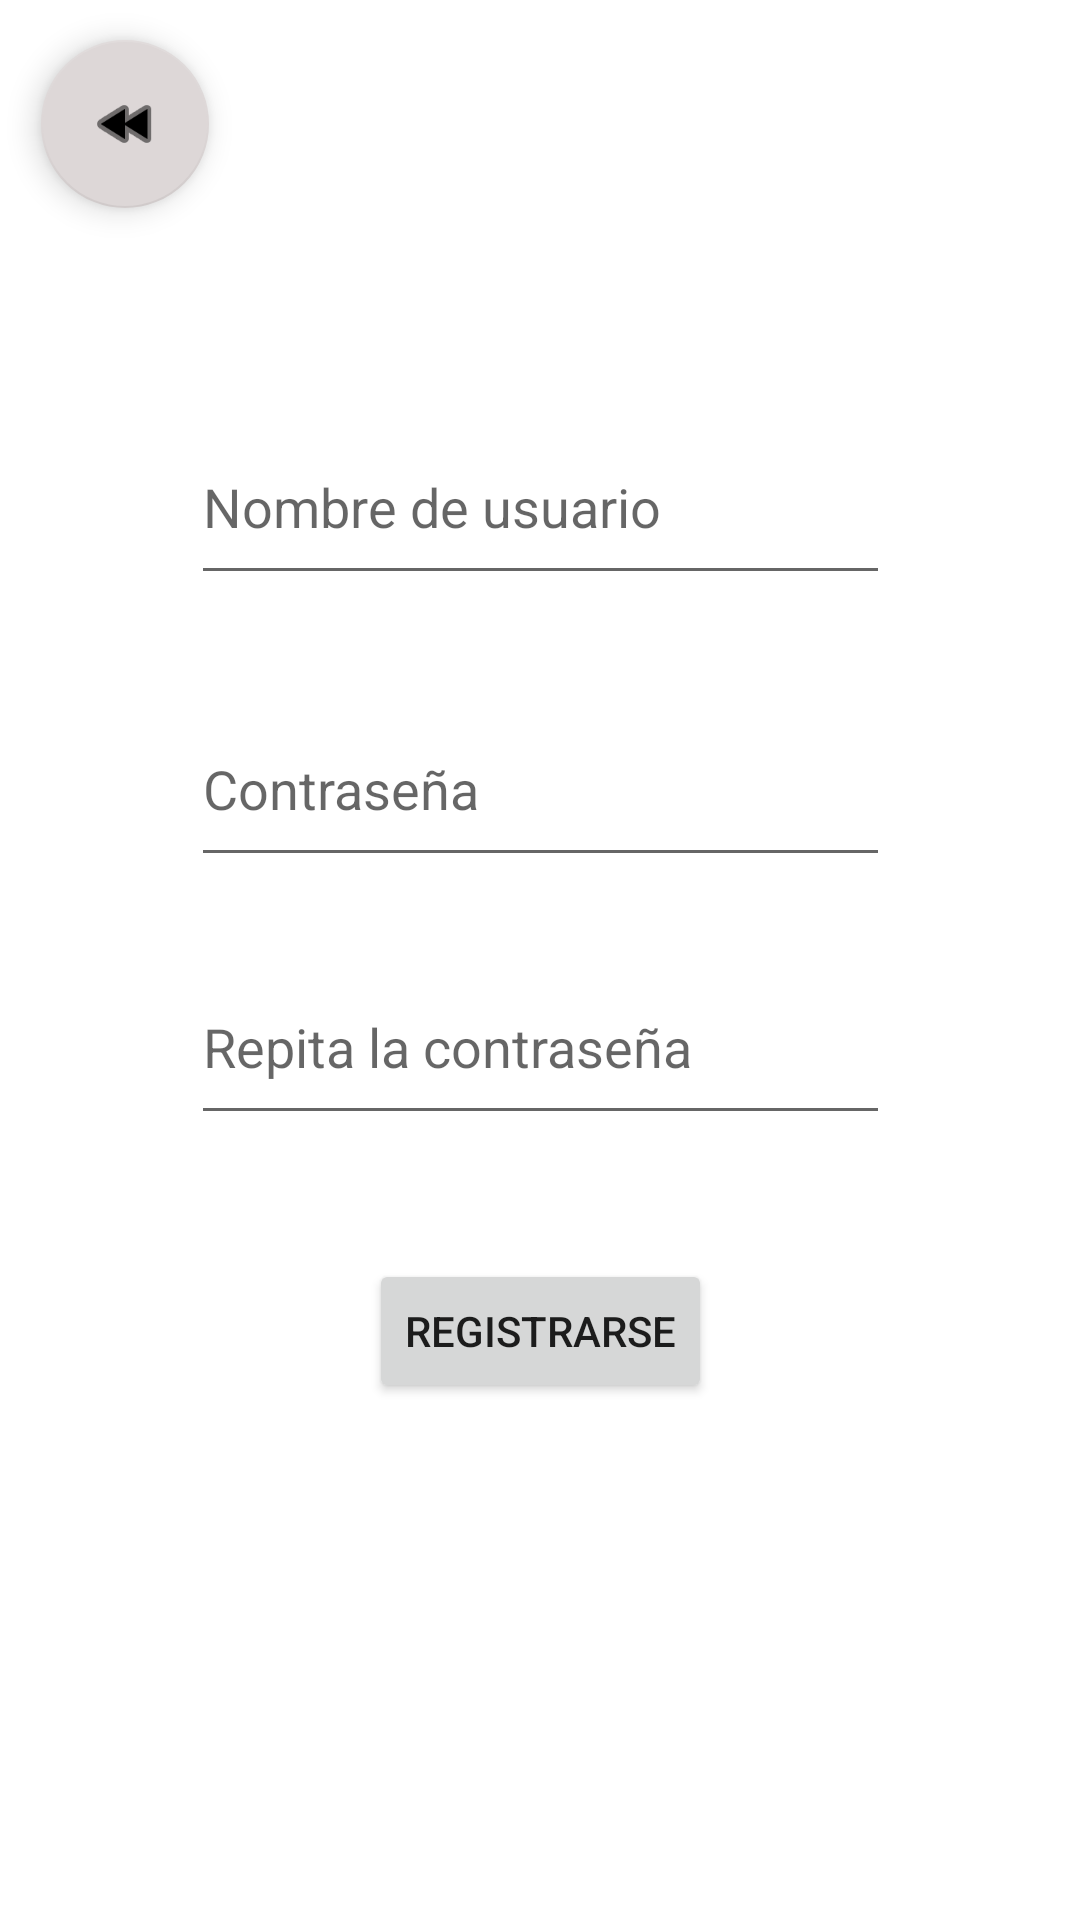

Named icons in this screenshot (1080px×1920px) and their bounding boxes, (x1, y1, x2, y2):
rew: (41, 40, 209, 208)
